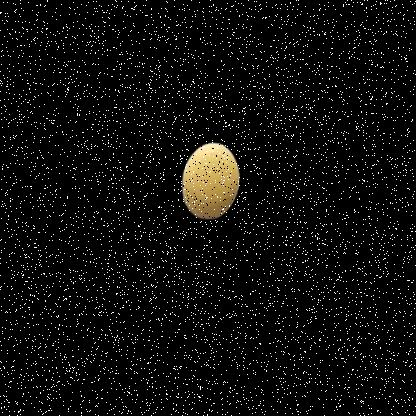rabeparzole20: (168, 127, 270, 237)
